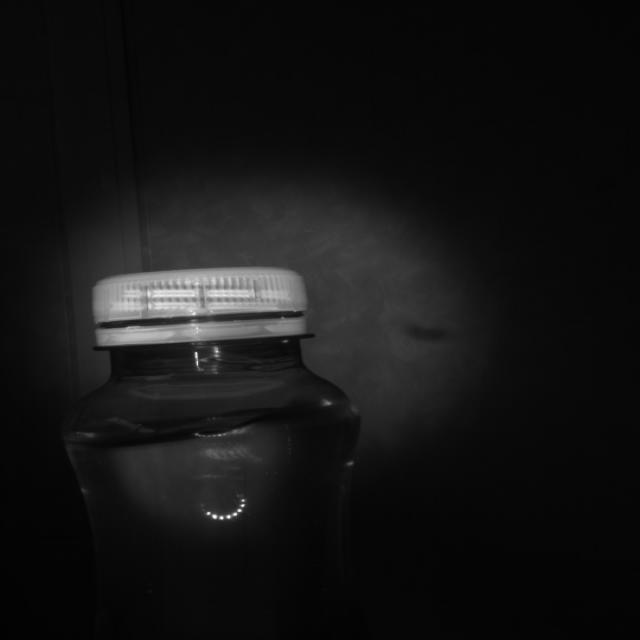Not Good: (93, 264, 308, 346)
